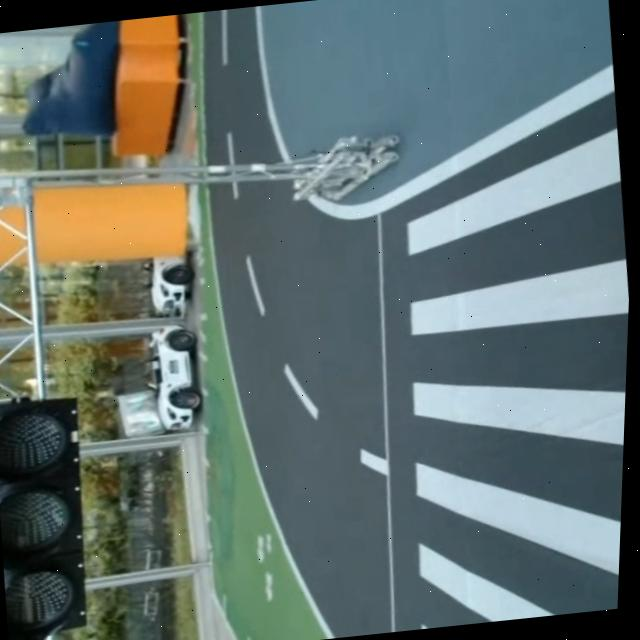traffic-light: (0, 388, 108, 640)
